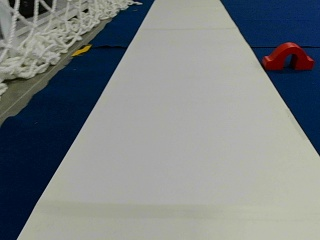bridge: (264, 42, 313, 68)
